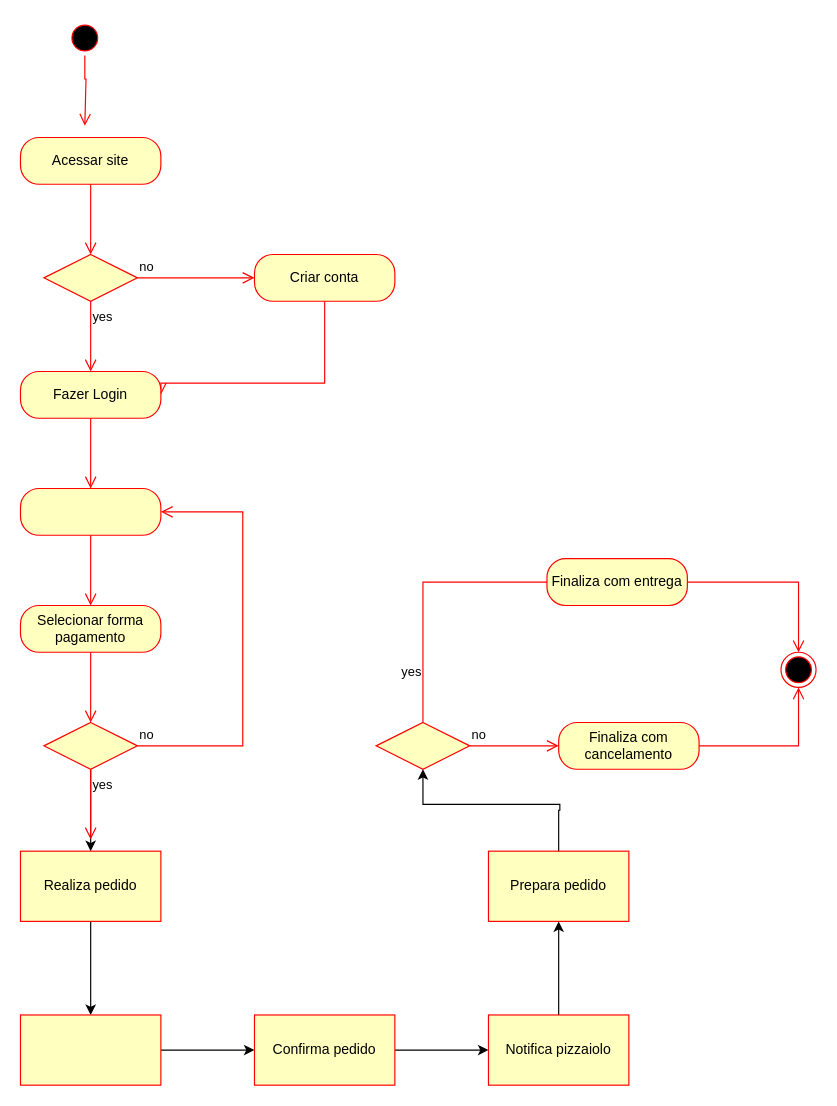
The diagram is 837 pixels wide and 1106 high, and some of its shapes have lost their labels. The centre of each missing label's shape, as x and y in pixels:
"Adicionar itens ao carrinho" goes at point (90, 511).
"Condition" goes at point (422, 745).
"Notifica atendente" goes at point (90, 1049).
"Tem conta?" goes at point (90, 277).
"Tem itens no pedido?" goes at point (90, 745).
